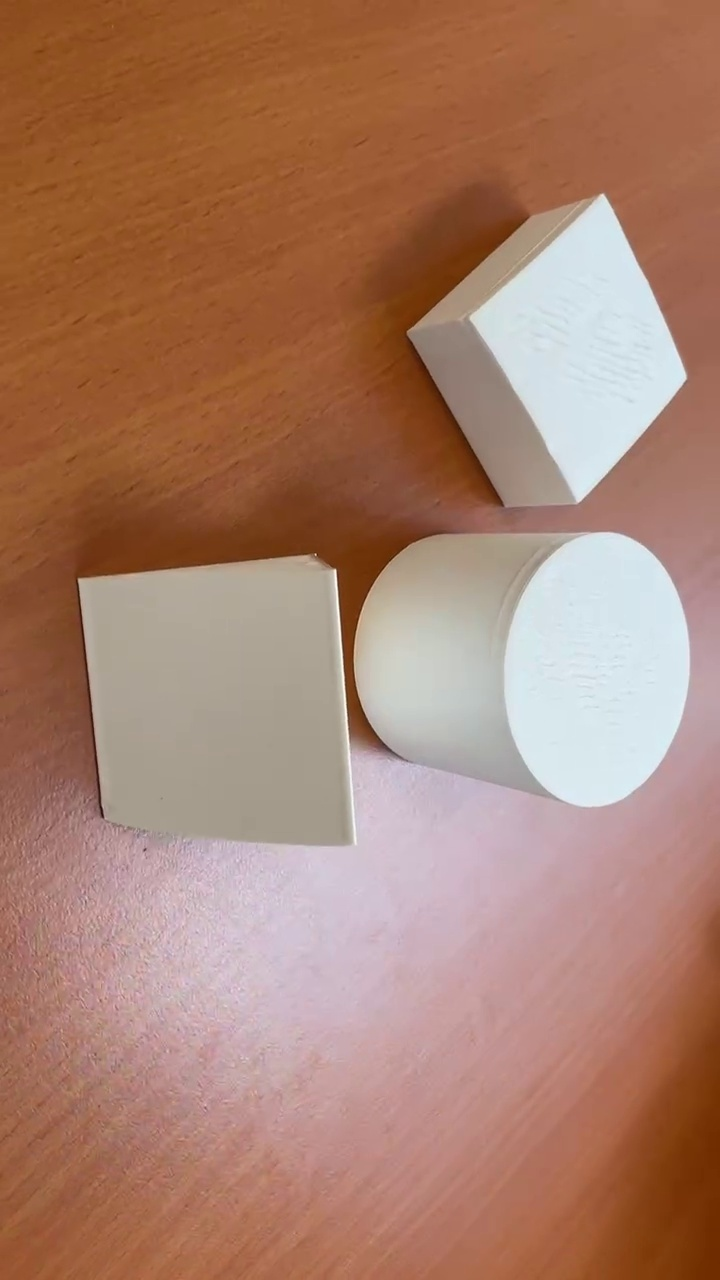Cube_short: (401, 194, 690, 505)
Cylinder: (349, 531, 694, 805)
Triangle: (76, 550, 359, 848)
